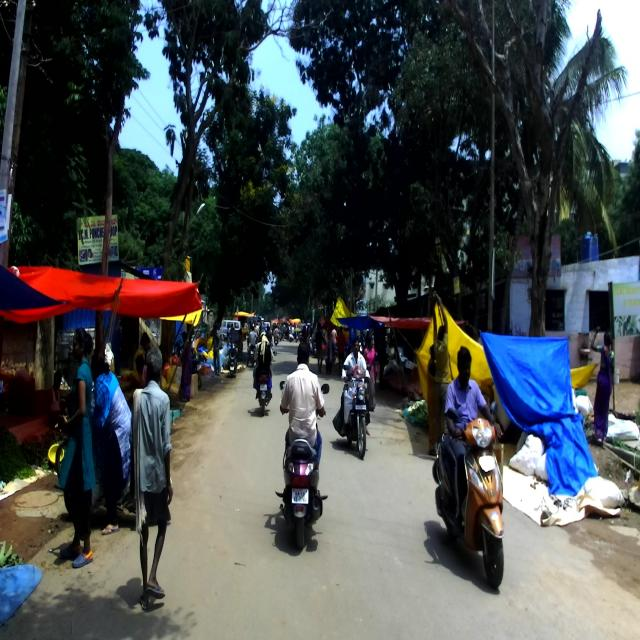motorcycle: (55, 422, 172, 518), (341, 363, 374, 459), (250, 347, 276, 412)
scooter: (432, 400, 502, 588), (275, 380, 330, 549)
